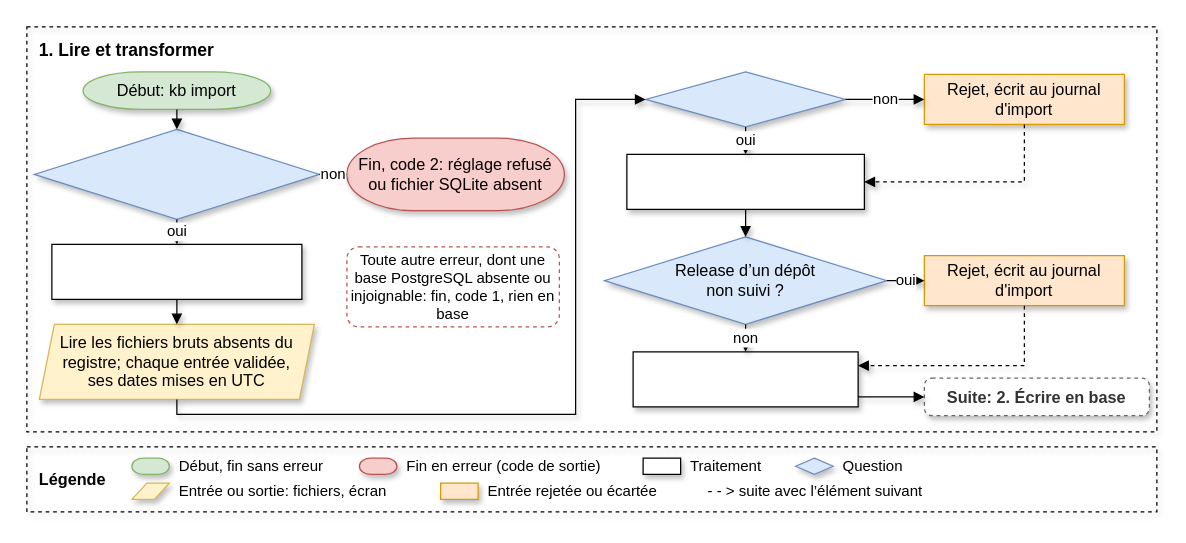
Some shapes in this 1186 by 543 pixel diagram are drawn without their labels. The centre of each missing label's shape, as x and y in pixels:
Agréger en un jeu unique, dans l'ordre des collectes: (x=746, y=183)
Associer chaque dossier de raw/ au lecteur de sa source: (x=177, y=273)
Entrée valide ?: (x=746, y=101)
Normaliser les URL: sans paramètres utm_*: (x=746, y=381)
Réglage de la base valide, fichier SQLite présent ?: (x=177, y=175)
